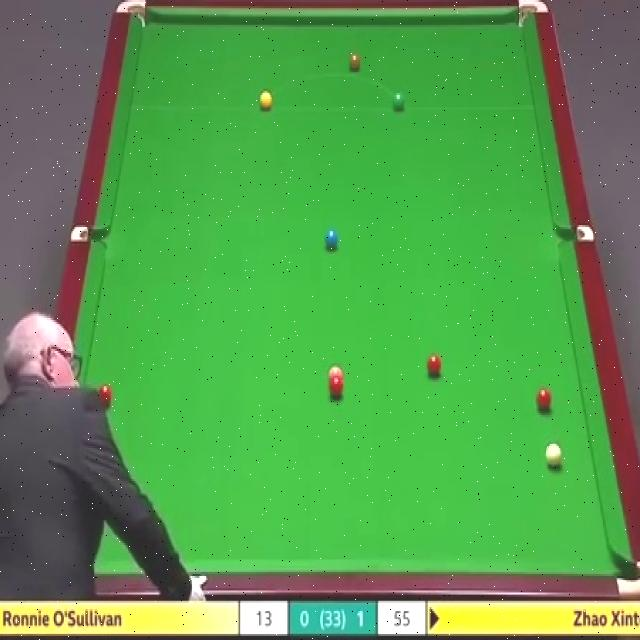blue-ball: (325, 230, 337, 251)
brown-ball: (347, 53, 362, 73)
green-ball: (391, 90, 405, 112)
pink-ball: (327, 365, 345, 378)
red-ball: (535, 388, 552, 413), (328, 378, 345, 401), (99, 380, 112, 410), (426, 354, 441, 377)
white-ball: (547, 441, 564, 466)
yellow-ball: (258, 90, 272, 111)
